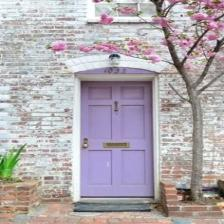purple: (82, 82, 153, 198), (76, 67, 156, 74)
